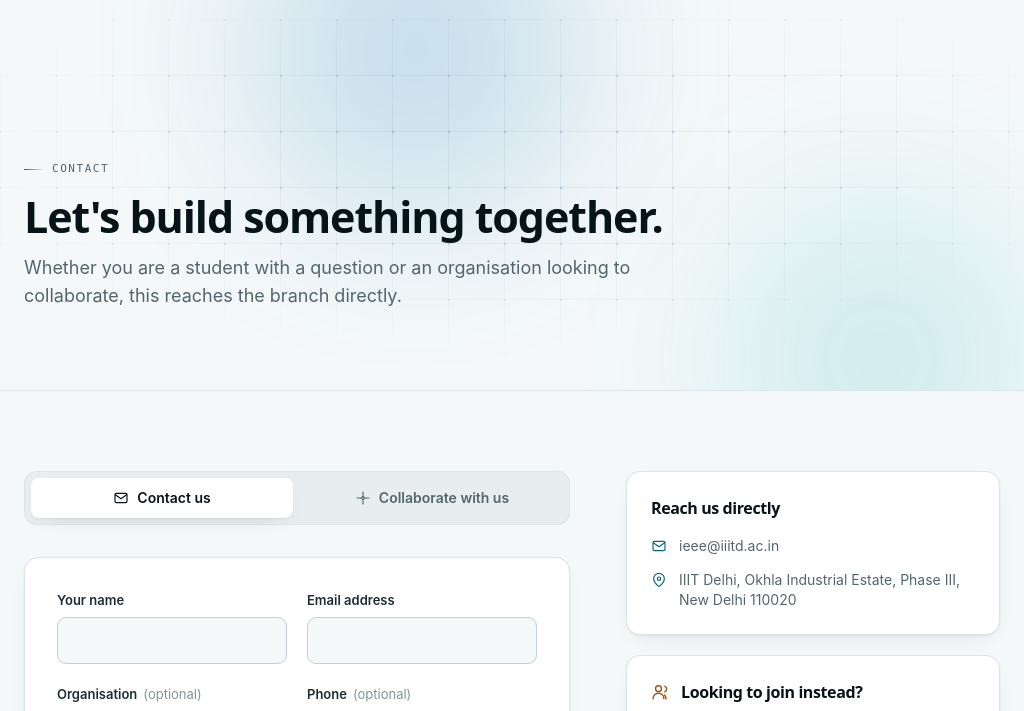
ContactPage › keeps the form on screen when the server rejects the submission
In the field labelled "Your name": (172, 640) x1=57 y1=617 x2=287 y2=664, type "Priya Sharma"
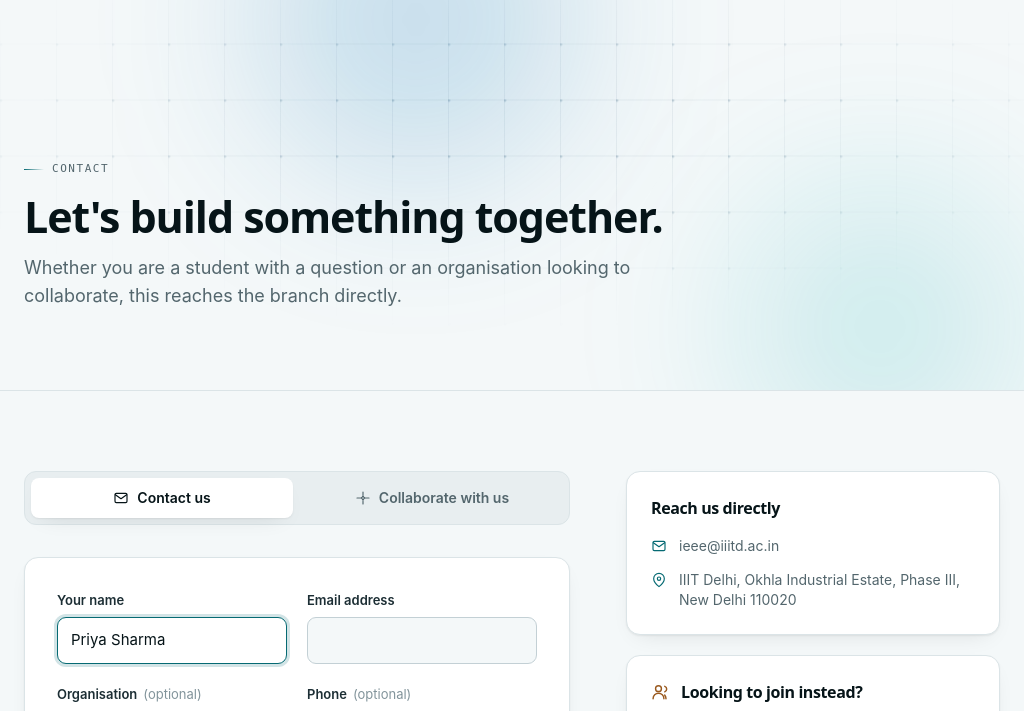
In the field labelled "Email address": (422, 640) x1=307 y1=617 x2=537 y2=664, type "priya@example.com"
(page scrolled)
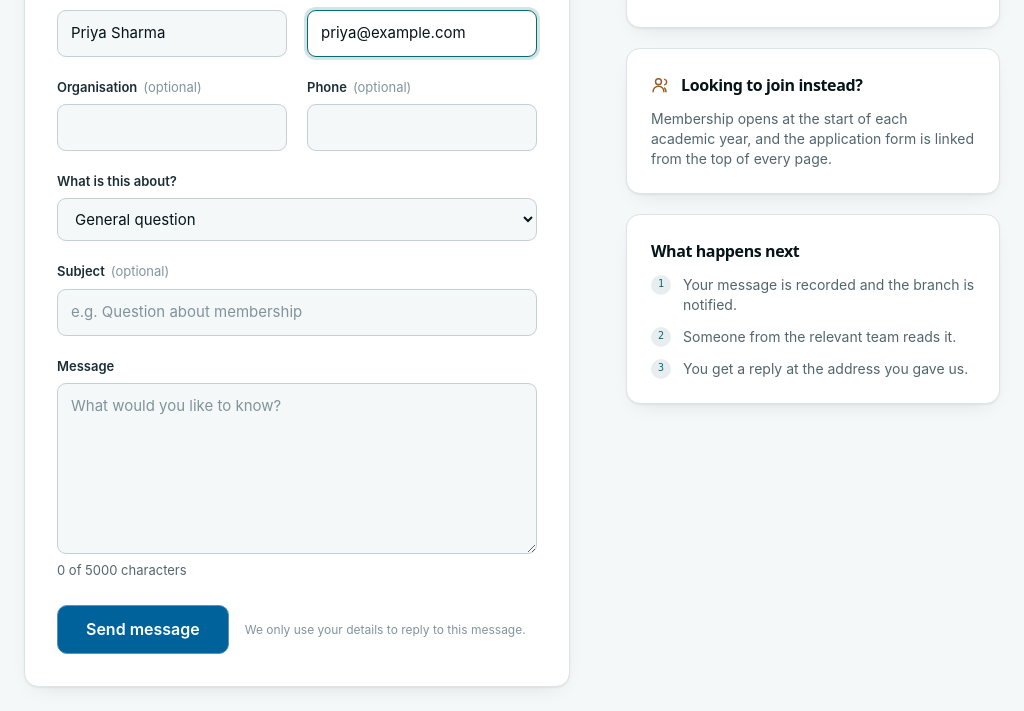
In the text box labelled "Message": (297, 468) x1=57 y1=383 x2=537 y2=554, type "We would like to run a workshop with your branch next semester."
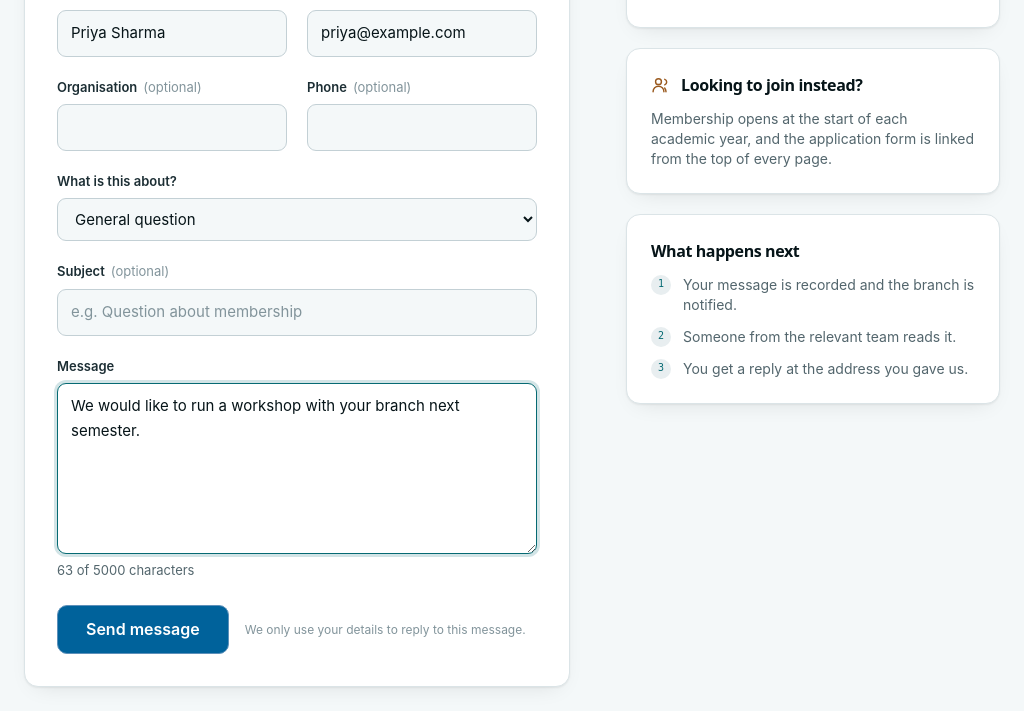
Click the button "Send message": (143, 630) x1=57 y1=605 x2=229 y2=654
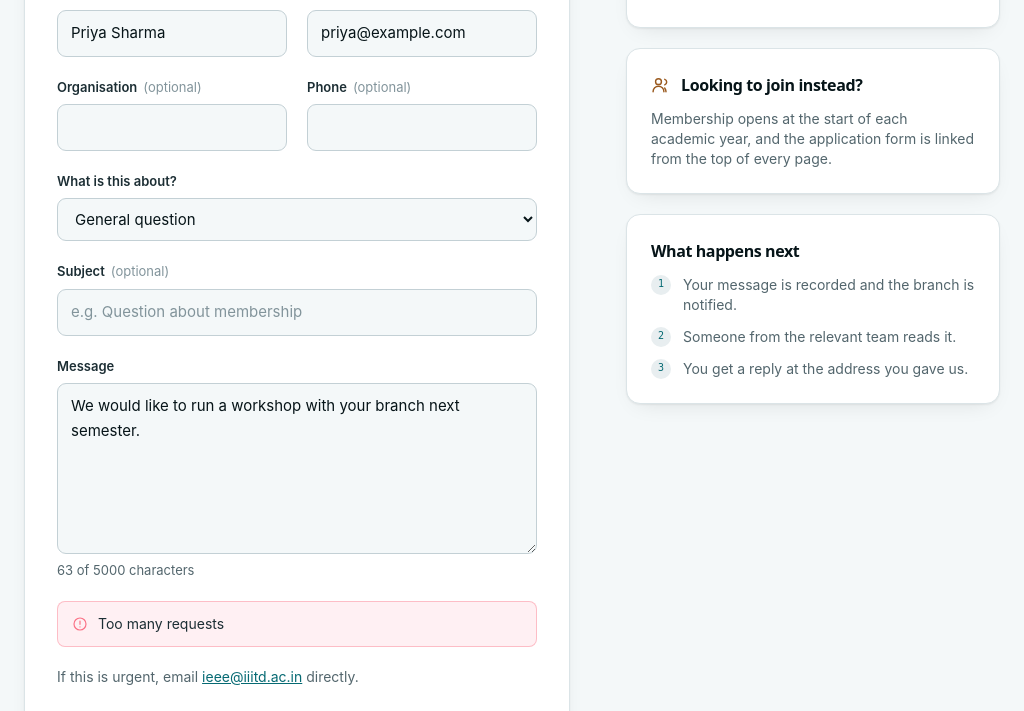
Now the message reads "Too many requests", box x1=98 y1=615 x2=224 y2=632
